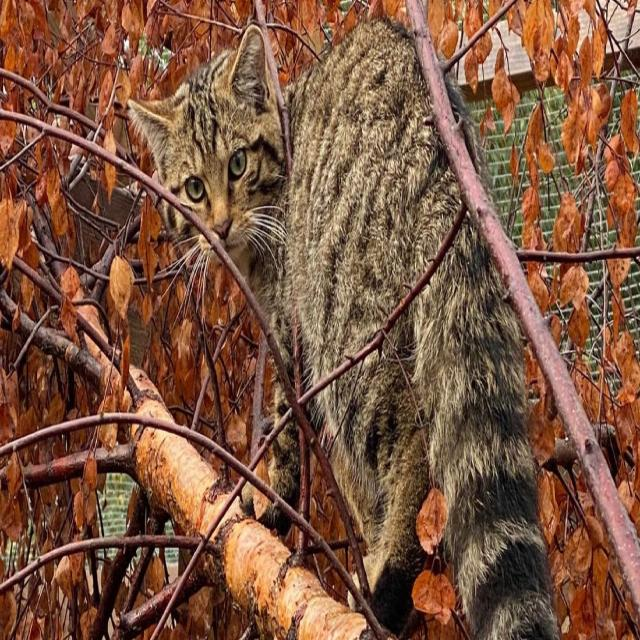cat: (129, 20, 460, 387), (309, 218, 556, 637)
